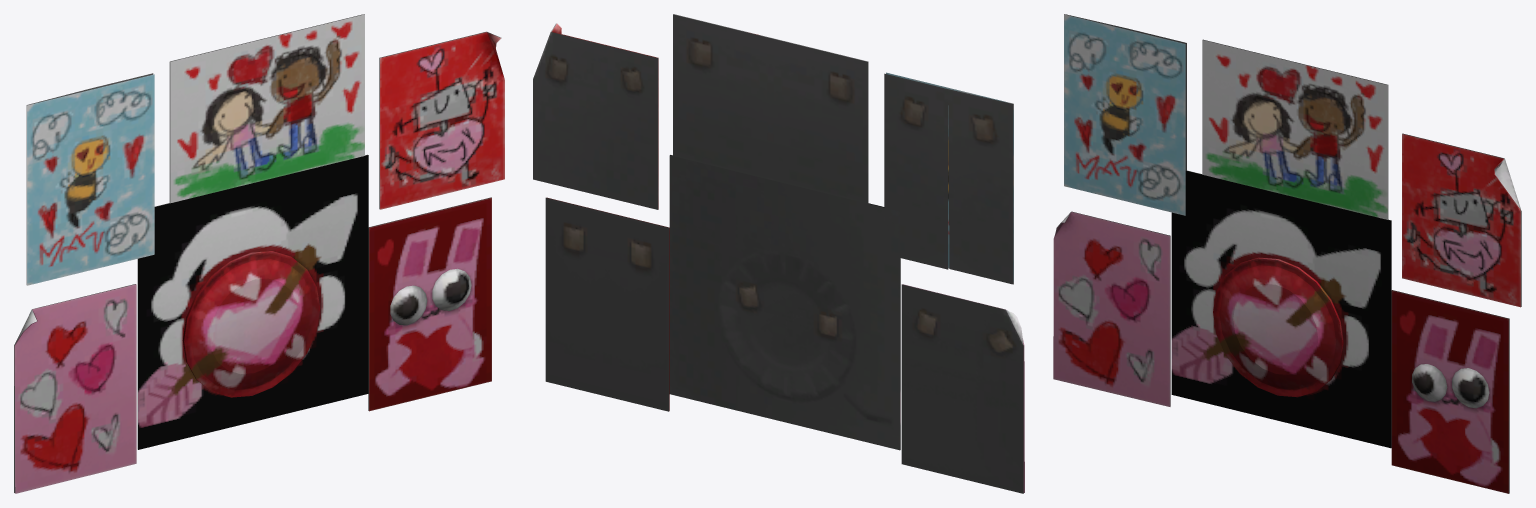
File: primaverales.fbx
3 renders of one model, left to right at view 1: azimuth 30°, elevation 25°; view 2: azimuth 150°, elevation 25°; view 3: azimuth 330°, elevation 25°, orthographic. The views are drawn at different scales.
Parts seen in each view (by area): view 1: s4studio_mesh_0; view 2: s4studio_mesh_0; view 3: s4studio_mesh_0.
Boxes of the visible parts, x1,y1,x2,y2 form: s4studio_mesh_0: [14, 14, 504, 493]; s4studio_mesh_0: [533, 14, 1024, 493]; s4studio_mesh_0: [1053, 14, 1521, 493].
Bounding box in the file's own units: 109 × 84.87 × 4.09.
Materials: 1 (1 with a texture image).
